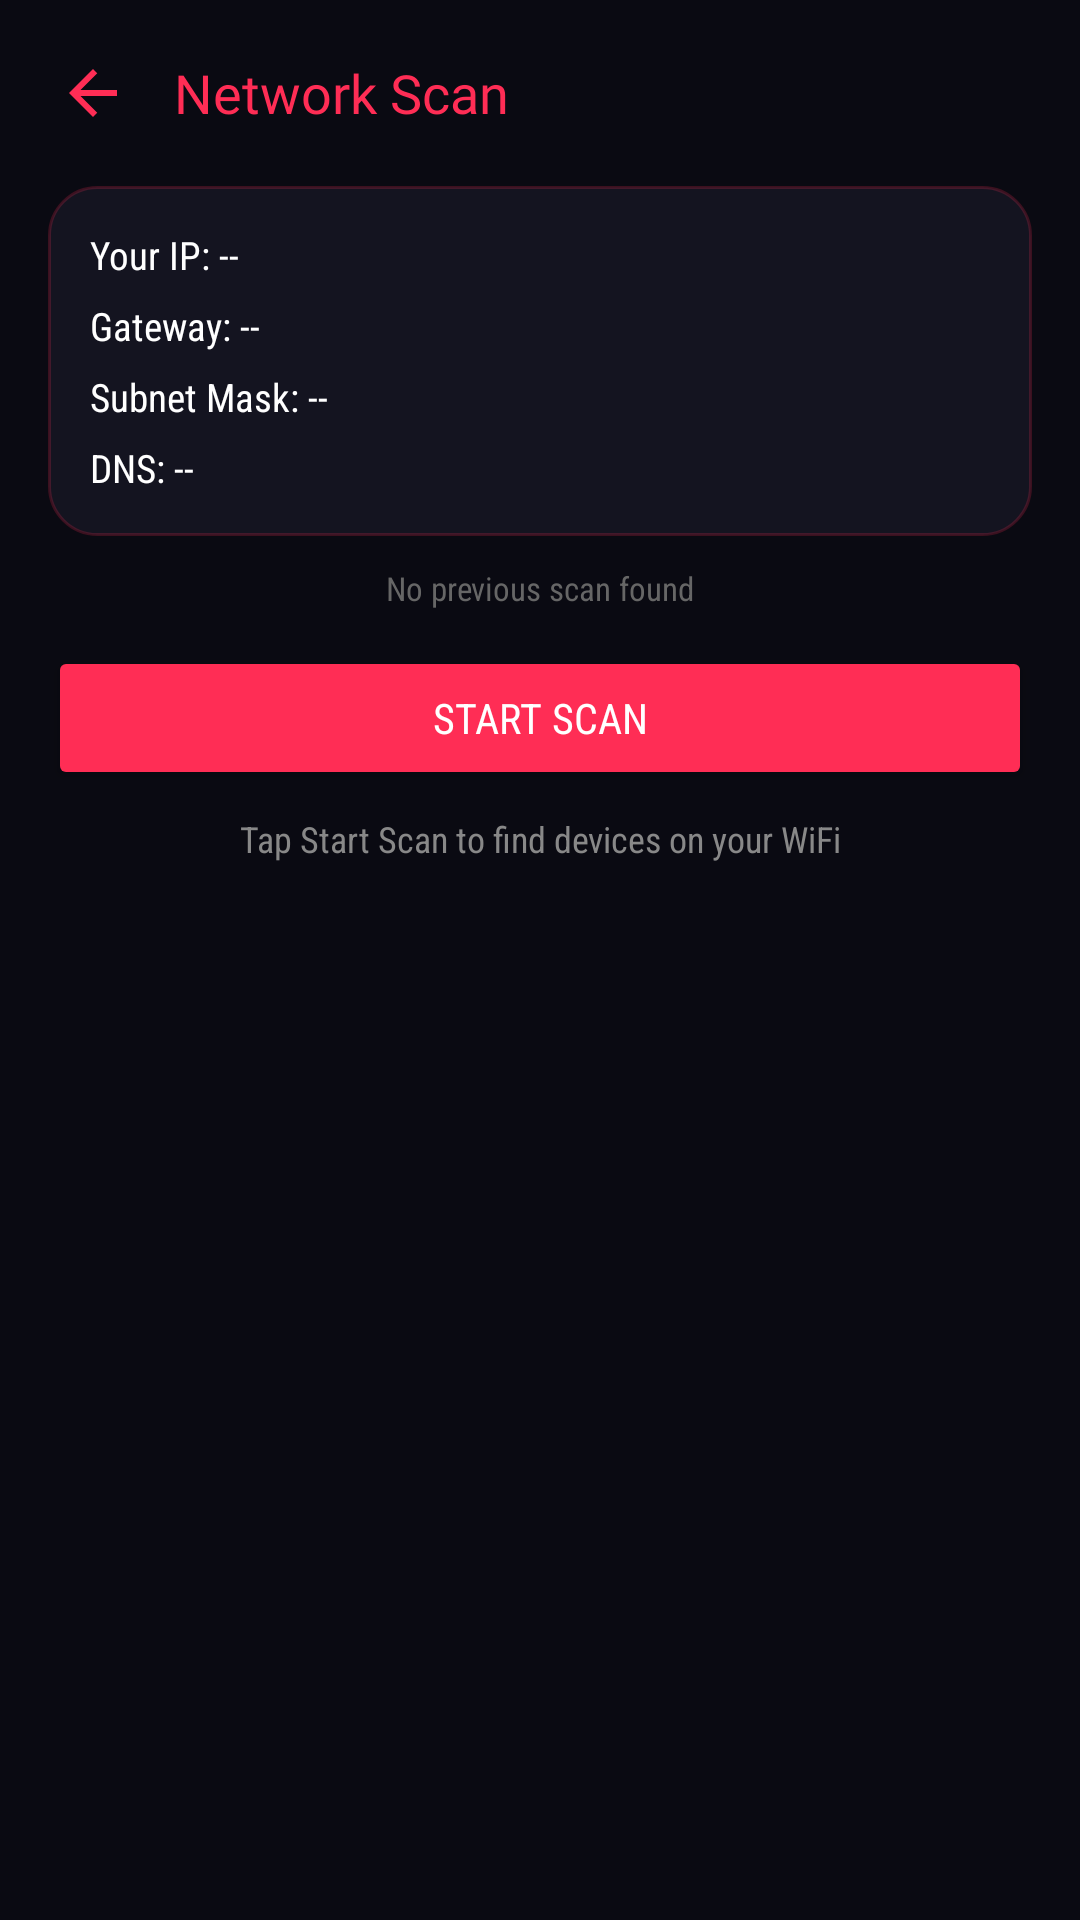

Where icons sit on this 1080px×1920px app screen, as Rect(x1, y1, x2, y2):
Back: Rect(69, 69, 117, 117)
